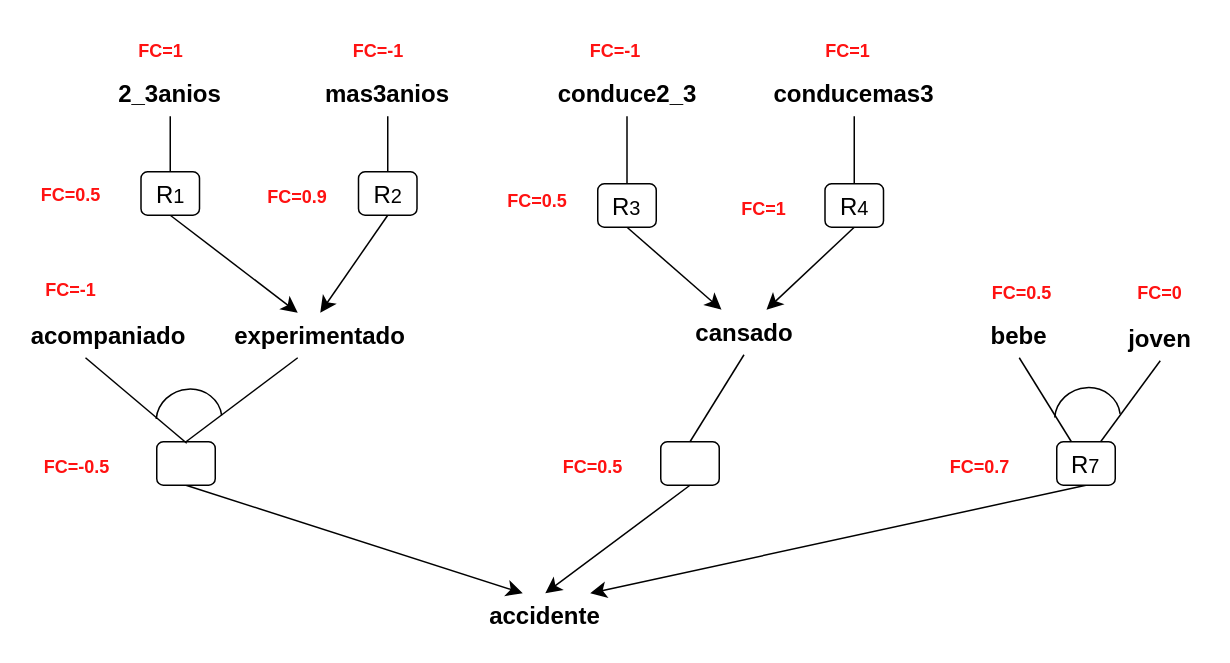
Image size: 1230x663. Some labels were removed from this diagram. Here are the shapes that lost their labels. From the top down, the box of each, then its label:
(155, 440, 215, 485): R 5
(659, 440, 719, 485): R 6
